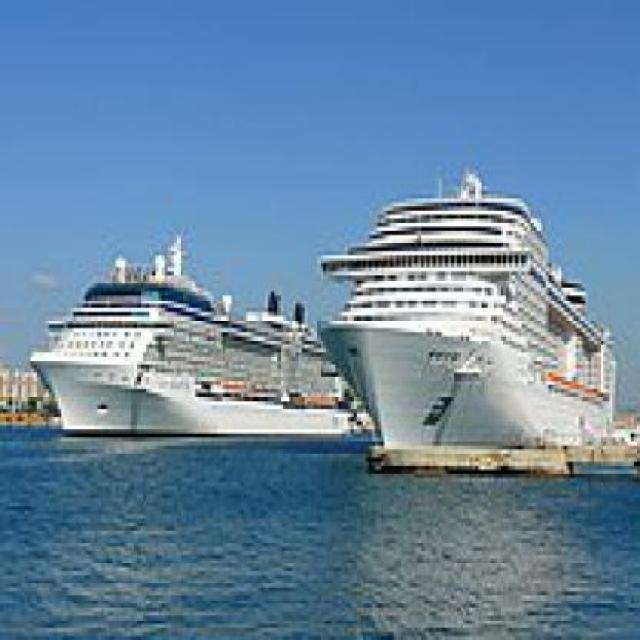cruise: (309, 159, 629, 491), (14, 216, 371, 454)
